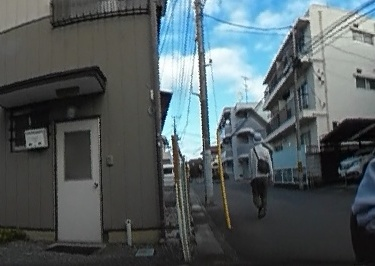person: (355, 17, 375, 266), (248, 129, 272, 217)
